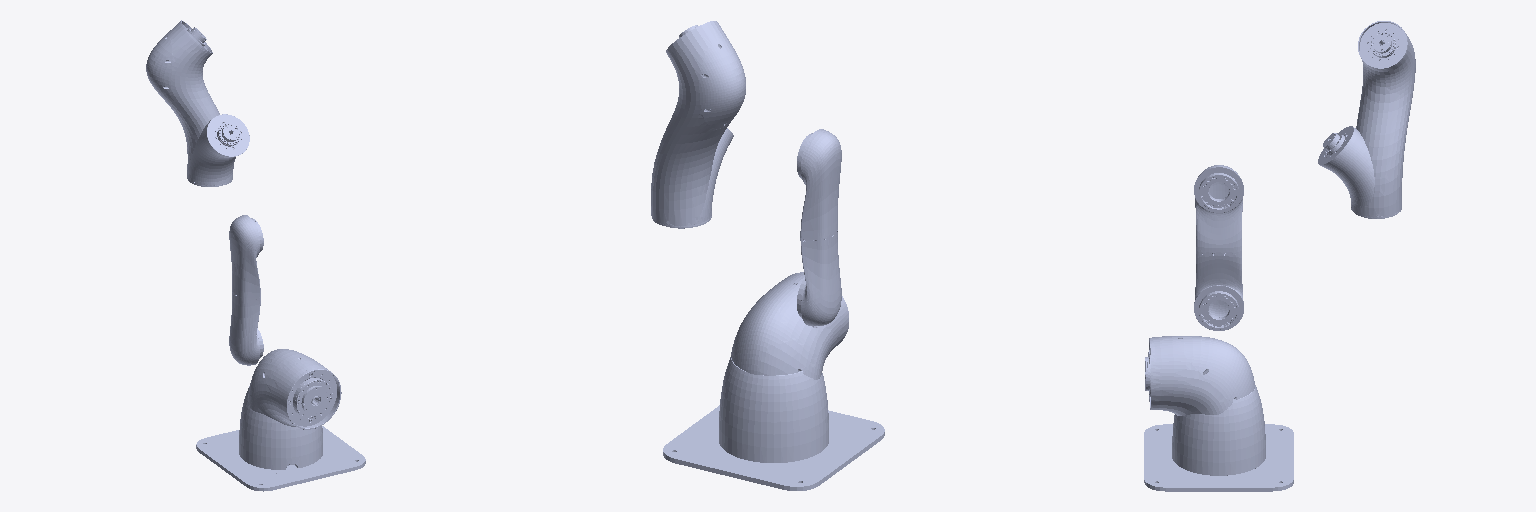
The robot description file, URDF, robot "robot":
<?xml version="1.0" encoding="utf-8"?>
<robot
    name="robot">
    <link
        name="world_link" />
    <joint name="root_joint" type="fixed">
        <origin rpy="0 0 0" xyz="0 0 0" />
        <parent link="world_link" />
        <child link="base_link" />
    </joint>
    <link
        name="base_link">
        <inertial>
            <origin
                xyz="-12.54E-03 -0.04E-03 111.27E-03"
                rpy="0 0 0" />
            <mass
                value="0.5" />
            <inertia
                ixx="1"
                ixy="0"
                ixz="0"
                iyy="1"
                iyz="0"
                izz="1" />
        </inertial>
        <visual>
            <origin
                xyz="0 0 0"
                rpy="0 0 0" />
            <geometry>
                <mesh
                    filename="package://addverb_heal_description/mesh/base_link.STL" />
            </geometry>
            <material
                name="">
                <color
                    rgba="0.79216 0.81961 0.93333 1" />
            </material>
        </visual>
        <collision>
            <origin
                xyz="0 0 0"
                rpy="0 0 0" />
            <geometry>
                <mesh
                    filename="package://addverb_heal_description/mesh/base_link.STL" />
            </geometry>
        </collision>
    </link>
    <link
        name="link1">
        <inertial>
            <origin
                xyz="-12.54E-03 -0.04E-03 111.27E-03"
                rpy="0 0 0" />
            <mass
                value="7.92" />
            <inertia
                ixx="1"
                ixy="0"
                ixz="0"
                iyy="1"
                iyz="0"
                izz="1" />
        </inertial>
        <visual>
            <origin
                xyz="0 0 0"
                rpy="0 0 0" />
            <geometry>
                <mesh
                    filename="package://addverb_heal_description/mesh/link_1.STL" />
            </geometry>
            <material
                name="">
                <color
                    rgba="0.79216 0.81961 0.93333 1" />
            </material>
        </visual>
        <collision>
            <origin
                xyz="0 0 0"
                rpy="0 0 0" />
            <geometry>
                <mesh
                    filename="package://addverb_heal_description/mesh/link_1.STL" />
            </geometry>
        </collision>
    </link>
    <joint
        name="Joint_1"
        type="revolute">
        <origin
            xyz="0 0 0"
            rpy="0 0 0" />
        <parent
            link="base_link" />
        <child
            link="link1" />
        <axis
            xyz="0 0 1" />
        <limit
            lower="-3.14"
            upper="3.14"
            effort="150"
            velocity="3" />
    </joint>
    <link
        name="link2">
        <inertial>
            <origin
                xyz="0.01E-03 152.36E-03 15.99E-03"
                rpy="0 0 0" />
            <mass
                value="1.24" />
            <inertia
                ixx="1"
                ixy="0"
                ixz="0"
                iyy="1"
                iyz="0"
                izz="1" />
        </inertial>
        <visual>
            <origin
                xyz="0 0 0"
                rpy="0 0 0" />
            <geometry>
                <mesh
                    filename="package://addverb_heal_description/mesh/link_2.STL" />
            </geometry>
            <material
                name="">
                <color
                    rgba="0.79216 0.81961 0.93333 1" />
            </material>
        </visual>
        <collision>
            <origin
                xyz="0 0 0"
                rpy="0 0 0" />
            <geometry>
                <mesh
                    filename="package://addverb_heal_description/mesh/link_2.STL" />
            </geometry>
        </collision>
    </link>
    <joint
        name="Joint_2"
        type="revolute">
        <origin
            xyz="0 0 0.346"
            rpy="0 0 0" />
        <parent
            link="link1" />
        <child
            link="link2" />
        <axis
            xyz="-1 0 0" />
        <limit
            lower="-0.75"
            upper="2.05"
            effort="150"
            velocity="1" />
    </joint>
    <link
        name="link3">
        <inertial>
            <origin
                xyz="-33.59E-03 -0.02E-03 -73.25E-03"
                rpy="0 0 0" />
            <mass
                value="5.57" />
            <inertia
                ixx="1"
                ixy="0"
                ixz="0"
                iyy="1"
                iyz="0"
                izz="1" />
        </inertial>
        <visual>
            <origin
                xyz="0 0 0"
                rpy="0 0 0" />
            <geometry>
                <mesh
                    filename="package://addverb_heal_description/mesh/link_3.STL" />
            </geometry>
            <material
                name="">
                <color
                    rgba="0.79216 0.81961 0.93333 1" />
            </material>
        </visual>
        <collision>
            <origin
                xyz="0 0 0"
                rpy="0 0 0" />
            <geometry>
                <mesh
                    filename="package://addverb_heal_description/mesh/link_3.STL" />
            </geometry>
        </collision>
    </link>
    <joint
        name="Joint_3"
        type="revolute">
        <origin
            xyz="0 0 0.305"
            rpy="0 0 0" />
        <parent
            link="link2" />
        <child
            link="link3" />
        <axis
            xyz="1 0 0" />
        <limit
            lower="-1"
            upper="1"
            effort="150"
            velocity="5" />
    </joint>
    <link
        name="link4">
        <inertial>
            <origin
                xyz="50.59E-03 0.06E-03 106.42E-03"
                rpy="0 0 0" />
            <mass
                value="1.9" />
            <inertia
                ixx="1"
                ixy="0"
                ixz="0"
                iyy="1"
                iyz="0"
                izz="1" />
        </inertial>
        <visual>
            <origin
                xyz="0 0 0"
                rpy="0 0 0" />
            <geometry>
                <mesh
                    filename="package://addverb_heal_description/mesh/link_4.STL" />
            </geometry>
            <material
                name="">
                <color
                    rgba="0.79216 0.81961 0.93333 1" />
            </material>
        </visual>
        <collision>
            <origin
                xyz="0 0 0"
                rpy="0 0 0" />
            <geometry>
                <mesh
                    filename="package://addverb_heal_description/mesh/link_4.STL" />
            </geometry>
        </collision>
    </link>
    <joint
        name="Joint_4"
        type="revolute">
        <origin
            xyz="-0.0009127 0.36813 0"
            rpy="0 0 0" />
        <parent
            link="link3" />
        <child
            link="link4" />
        <axis
            xyz="0 1 0" />
        <limit
            lower="-3.14"
            upper="3.14"
            effort="80"
            velocity="1" />
    </joint>
    <link
        name="link5">
        <inertial>
            <origin
                xyz="-0.02E-03 -46.18E-03 58.09E-03"
                rpy="0 0 0" />
            <mass
                value="1.78" />
            <inertia
                ixx="1"
                ixy="0"
                ixz="0"
                iyy="1"
                iyz="0"
                izz="1" />
        </inertial>
        <visual>
            <origin
                xyz="0 0 0"
                rpy="0 0 0" />
            <geometry>
                <mesh
                    filename="package://addverb_heal_description/mesh/link_5.STL" />
            </geometry>
            <material
                name="">
                <color
                    rgba="0.79216 0.81961 0.93333 1" />
            </material>
        </visual>
        <collision>
            <origin
                xyz="0 0 0"
                rpy="0 0 0" />
            <geometry>
                <mesh
                    filename="package://addverb_heal_description/mesh/link_5.STL" />
            </geometry>
        </collision>
    </link>
    <joint
        name="Joint_5"
        type="revolute">
        <origin
            xyz="0 0 0"
            rpy="0 0 0" />
        <parent
            link="link4" />
        <child
            link="link5" />
        <axis
            xyz="0.5 0.86603 0" />
        <limit
            lower="-3.14"
            upper="3.14"
            effort="80"
            velocity="1" />
    </joint>
    <link
        name="tool">
        <inertial>
            <origin
                xyz="0 0 0.0"
                rpy="0 0 0" />
            <mass
                value="0.01" />
            <inertia
                ixx="1"
                ixy="0"
                ixz="0"
                iyy="1"
                iyz="0"
                izz="1" />
        </inertial>
        <visual>
            <origin
                xyz="0 0 0"
                rpy="0 0 0" />
            <geometry>
                <mesh
                    filename="package://addverb_heal_description/mesh/end_effector.STL" />
            </geometry>
            <material
                name="">
                <color
                    rgba="0.89804 0.91765 0.92941 1" />
            </material>
        </visual>
        <collision>
            <origin
                xyz="0 0 0"
                rpy="0 0 0" />
            <geometry>
                <mesh
                    filename="package://addverb_heal_description/mesh/end_effector.STL" />
            </geometry>
        </collision>
    </link>
    <joint
        name="Joint_6"
        type="revolute">
        <origin
            xyz="0 0 -0.0975"
            rpy="0 0 0" />
        <parent
            link="link5" />
        <child
            link="tool" />
        <axis
            xyz="0 0 -1" />
        <limit
            lower="-3.14"
            upper="3.14"
            effort="80"
            velocity="1" />
    </joint>

    <!-- DUMMY FIXED JOINT AT END -->
    <link
        name="tool_ff">
        <inertial>
            <origin
                xyz="0 0 0.0"
                rpy="0 0 0" />
            <mass
                value="0.01" />
            <inertia
                ixx="1"
                ixy="0"
                ixz="0"
                iyy="1"
                iyz="0"
                izz="1" />
        </inertial>
        <visual>
            <origin
                xyz="0 0 0"
                rpy="0 0 0" />
            <geometry>
                <mesh
                    filename="package://addverb_heal_description/mesh/end_effector.STL" />
            </geometry>
            <material
                name="">
                <color
                    rgba="0.89804 0.91765 0.92941 1" />
            </material>
        </visual>
        <collision>
            <origin
                xyz="0 0 0"
                rpy="0 0 0" />
            <geometry>
                <mesh
                    filename="package://addverb_heal_description/mesh/end_effector.STL" />
            </geometry>
        </collision>
    </link>
    <joint name="tool_joint_ff" type="fixed">
        <origin rpy="0 0 0" xyz="0 0 0" />
        <parent link="tool" />
        <child link="tool_ff" />
    </joint>
</robot>

--- What the picture shows (computed from the rendered views, not written in the file) ---
3 views of the same robot in one strip: view 1: azimuth 30°, elevation 25°; view 2: azimuth 150°, elevation 25°; view 3: azimuth 270°, elevation 25° (orthographic).
Robot: robot — 9 links, 8 joints (6 revolute, 2 fixed); root link world_link; default pose: every joint at zero.
Visible links, largest first — view 1: base_link, link1, link4, link2, link5; view 2: base_link, link4, link2, link1, link5; view 3: base_link, link4, link2, link1, link5.
Boxes of the visible links, x1,y1,x2,y2 form: base_link: [196, 386, 365, 491]; link1: [248, 349, 341, 465]; link4: [146, 20, 232, 185]; link2: [229, 215, 263, 365]; link5: [187, 114, 249, 186]; base_link: [663, 356, 884, 490]; link4: [651, 21, 745, 226]; link2: [797, 129, 841, 325]; link1: [730, 272, 848, 379]; link5: [651, 128, 733, 228]; base_link: [1144, 385, 1293, 491]; link4: [1351, 21, 1415, 218]; link2: [1194, 165, 1243, 330]; link1: [1145, 336, 1254, 415]; link5: [1318, 126, 1401, 217].
Size in the robot's own frame: 0.35 by 0.6349 by 1.11 metres.
Meshes: 7 distinct files referenced, 5 mesh visuals loaded (5 binary STL); not drawn: 3 (reference not matched to a file when rendering).